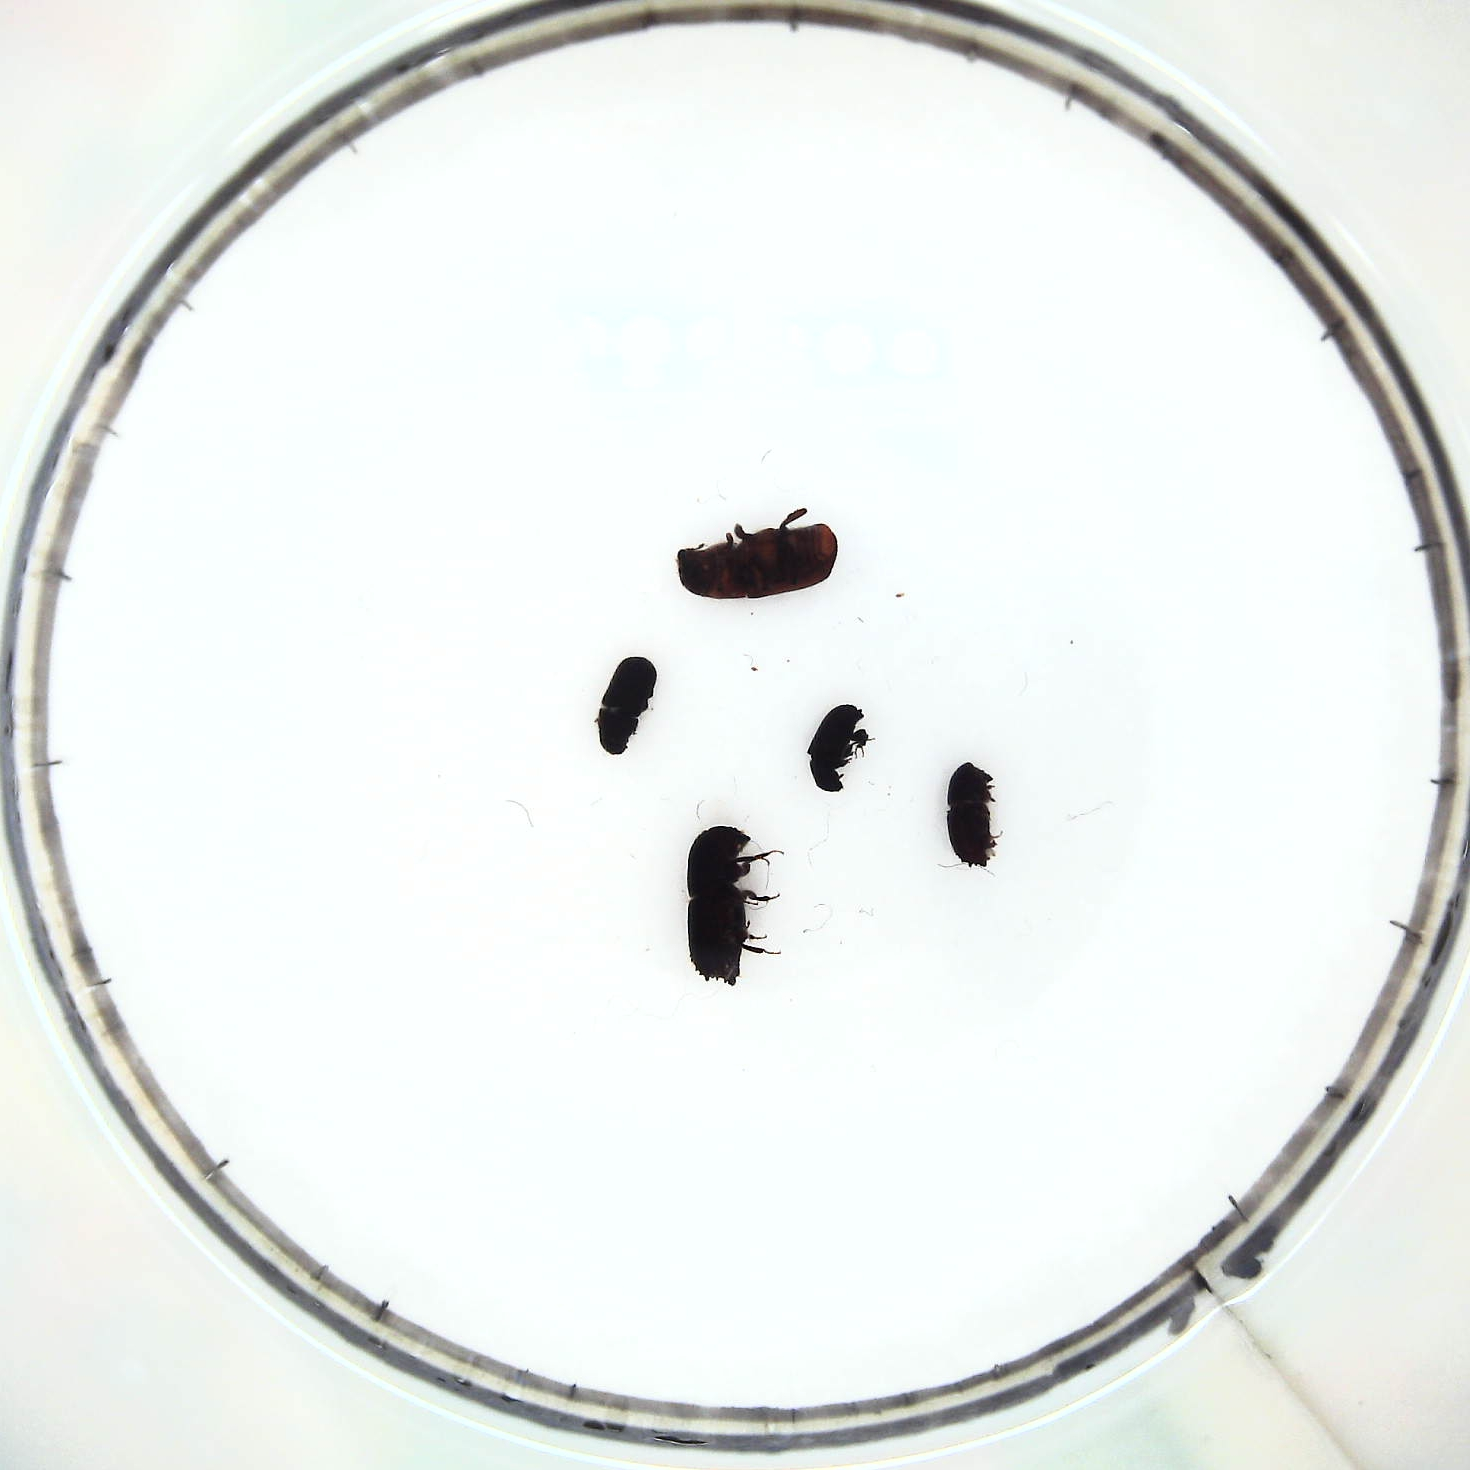Boerner: (687, 825, 765, 987)
Leconte: (676, 520, 840, 598)
Linnaeus: (946, 759, 998, 870)
armandi: (591, 656, 660, 754)
coleoptera: (806, 701, 871, 793)
